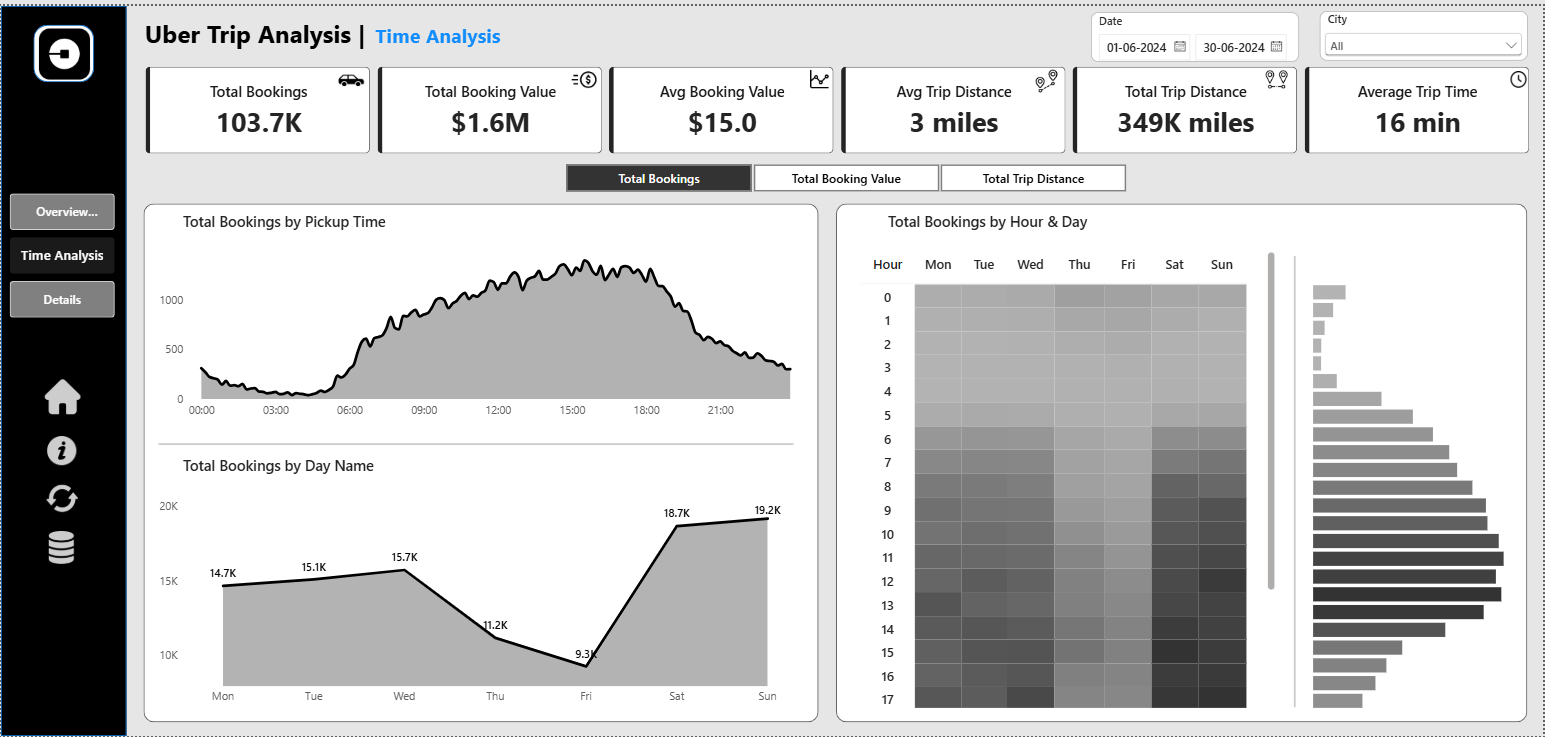

The page's visual inventory and layout, read from the dashboard file:
{"tool":"powerbi","page":{"name":"Time Analysis","canvas":[1690,800],"ordinal":1},"visuals":[{"type":"shape","box":[0,0,137.5,800],"z":0},{"type":"textbox","box":[157.5,0,495.9,58.9],"z":1000},{"type":"cardVisual","fields":{"Data":["Trip Details.Total Bookings","Trip Details.Total Booking Value","Trip Details.Avg Booking Amount","Trip Details.Avg Trip Distance","Trip Details.Total Trip Distance","Trip Details.Average Trip Time"]},"box":[156.9,65.3,1519.4,97.2],"z":2000},{"type":"image","box":[625,66.7,28.8,27.4],"z":3000},{"type":"image","box":[1652.8,70.8,19.4,18.1],"z":4000},{"type":"image","box":[877.8,68.1,37,23.3],"z":5000},{"type":"image","box":[1131.9,69.4,30.6,25],"z":6000},{"type":"image","box":[1383.3,68.1,29.2,23.6],"z":7000},{"type":"image","box":[362.5,66.7,41.1,28.8],"z":8000},{"type":"shape","box":[156.2,216.4,739.7,568.5],"z":9000},{"type":"slicer","fields":{"Values":["Dynamic Measure.Dynamic Measure"]},"box":[598.6,171.2,653.4,34],"z":10000},{"type":"shape","box":[36.1,20.8,66.3,62.9],"z":11000},{"type":"image","box":[9.7,25,120,56],"z":12000},{"type":"image","box":[48.6,408.3,38.9,40.3],"z":13000},{"type":"image","box":[47.2,470.8,40,32],"z":14000},{"type":"image","box":[41.7,522.2,52,35],"z":15000},{"type":"image","box":[33.3,575,66.3,36],"z":16000},{"type":"slicer","fields":{"Values":["Location Table.City"]},"box":[1445.8,5.6,227.8,54.2],"z":17000},{"type":"slicer","fields":{"Values":["Calendar Table.Date"]},"box":[1194.4,6.9,227.8,54.2],"z":18000},{"type":"pageNavigator","box":[9.6,171.2,115.1,169.9],"z":19000},{"type":"areaChart","fields":{"Category":["Trip Details.Pickup Hour (HH MM SS) (bins)"],"Y":["Trip Details.Total Bookings"]},"box":[157.5,254.8,738.4,216.4],"z":20000},{"type":"cardVisual","fields":{"Data":["Trip Details.Title for by Pickup Time"]},"box":[183.6,216.4,591.8,38.4],"z":21000},{"type":"areaChart","fields":{"Category":["Calendar Table.Day Name"],"Y":["Trip Details.Total Bookings"]},"box":[157.5,524.7,738.4,260.3],"z":22000},{"type":"cardVisual","fields":{"Data":["Trip Details.Title for by Day Name"]},"box":[183.6,483.6,591.8,38.4],"z":23000},{"type":"shape","box":[915.1,216.4,757.5,568.5],"z":24000},{"type":"pivotTable","fields":{"Columns":["Calendar Table.Day Name"],"Rows":["Trip Details.Pickup Hour"],"Values":["Trip Details.Total Bookings"]},"box":[926,254.8,486.3,530.1],"z":25000},{"type":"barChart","fields":{"Category":["Trip Details.Pickup Hour"],"Y":["Trip Details.Total Bookings"]},"box":[1421.9,283.6,241.1,501.4],"z":26000},{"type":"cardVisual","fields":{"Data":["Trip Details.Title for by Hour & Day"]},"box":[956.2,216.4,591.8,38.4],"z":27000},{"type":"shape","box":[172.6,458.9,695.9,42.5],"z":28000},{"type":"shape","box":[1397.3,274,41.1,494.5],"z":29000}]}

Visuals, with their boxes on the page's 1690x800 design canvas (x1, y1, x2, y2). These are canvas units, not pixel positions in the 1545x737 screenshot, which may show the page scaled, cropped or inside an application window:
shape: left=0, top=0, right=138, bottom=800
textbox: left=158, top=0, right=653, bottom=59
cardVisual - Trip Details.Total Bookings x Trip Details.Total Booking Value: left=157, top=65, right=1676, bottom=162
image: left=625, top=67, right=654, bottom=94
image: left=1653, top=71, right=1672, bottom=89
image: left=878, top=68, right=915, bottom=91
image: left=1132, top=69, right=1162, bottom=94
image: left=1383, top=68, right=1412, bottom=92
image: left=362, top=67, right=404, bottom=96
shape: left=156, top=216, right=896, bottom=785
slicer - Dynamic Measure.Dynamic Measure: left=599, top=171, right=1252, bottom=205
shape: left=36, top=21, right=102, bottom=84
image: left=10, top=25, right=130, bottom=81
image: left=49, top=408, right=88, bottom=449
image: left=47, top=471, right=87, bottom=503
image: left=42, top=522, right=94, bottom=557
image: left=33, top=575, right=100, bottom=611
slicer - Location Table.City: left=1446, top=6, right=1674, bottom=60
slicer - Calendar Table.Date: left=1194, top=7, right=1422, bottom=61
pageNavigator: left=10, top=171, right=125, bottom=341
areaChart - Trip Details.Pickup Hour (HH MM SS) (bins) x Trip Details.Total Bookings: left=158, top=255, right=896, bottom=471
cardVisual - Trip Details.Title for by Pickup Time: left=184, top=216, right=775, bottom=255
areaChart - Calendar Table.Day Name x Trip Details.Total Bookings: left=158, top=525, right=896, bottom=785
cardVisual - Trip Details.Title for by Day Name: left=184, top=484, right=775, bottom=522
shape: left=915, top=216, right=1673, bottom=785
pivotTable - Calendar Table.Day Name x Trip Details.Pickup Hour: left=926, top=255, right=1412, bottom=785
barChart - Trip Details.Pickup Hour x Trip Details.Total Bookings: left=1422, top=284, right=1663, bottom=785
cardVisual - Trip Details.Title for by Hour & Day: left=956, top=216, right=1548, bottom=255
shape: left=173, top=459, right=868, bottom=501
shape: left=1397, top=274, right=1438, bottom=768
